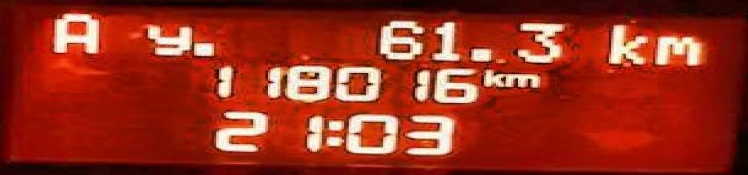-: (466, 44, 493, 63), (192, 40, 219, 56)
0: (344, 110, 398, 155), (331, 63, 380, 103)
1: (432, 18, 461, 62), (209, 60, 238, 96), (297, 110, 319, 155), (408, 64, 430, 104), (260, 63, 282, 99)
2: (213, 109, 270, 153)
3: (513, 18, 567, 65), (400, 110, 454, 155)
6: (373, 16, 424, 59), (434, 65, 476, 102)
8: (285, 60, 326, 101)
X: (49, 10, 103, 53), (603, 19, 645, 68), (652, 30, 699, 67), (145, 20, 189, 55), (503, 72, 537, 88), (324, 117, 341, 148), (481, 65, 503, 88)
